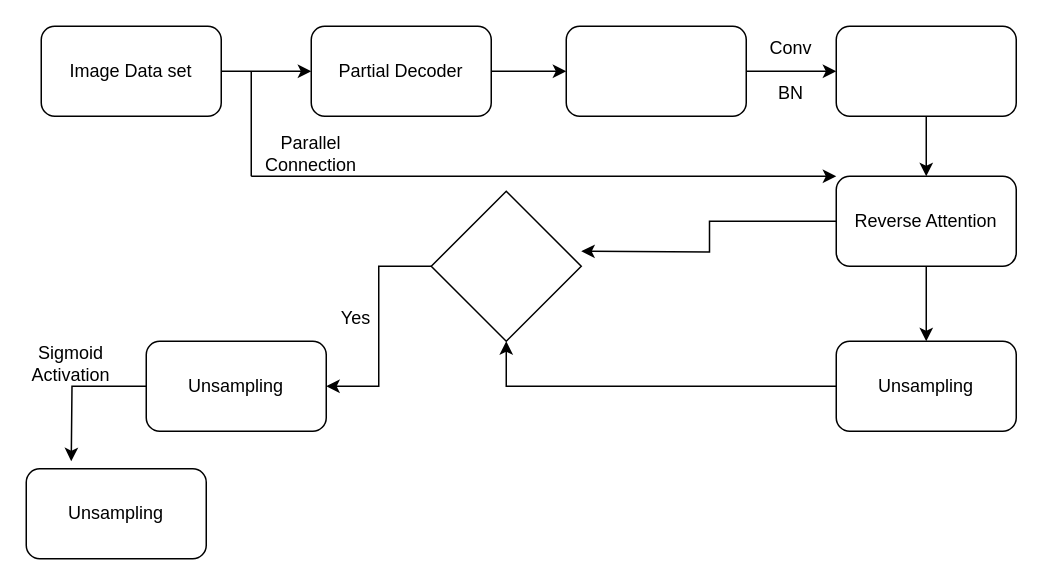
Image size: 1043x585. Some labels were removed from this diagram. Here are the shapes that lost their labels. From the top down, the centre of each, then its label:
At (x=655, y=70): "Global Maps".
At (x=925, y=70): "Down Damping".
At (x=505, y=265): "Attained Final Image".
